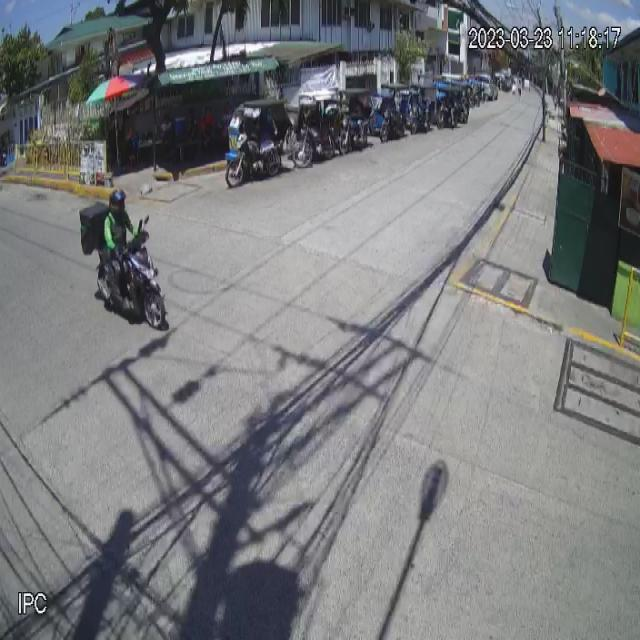Motorcycle: (96, 214, 170, 332)
